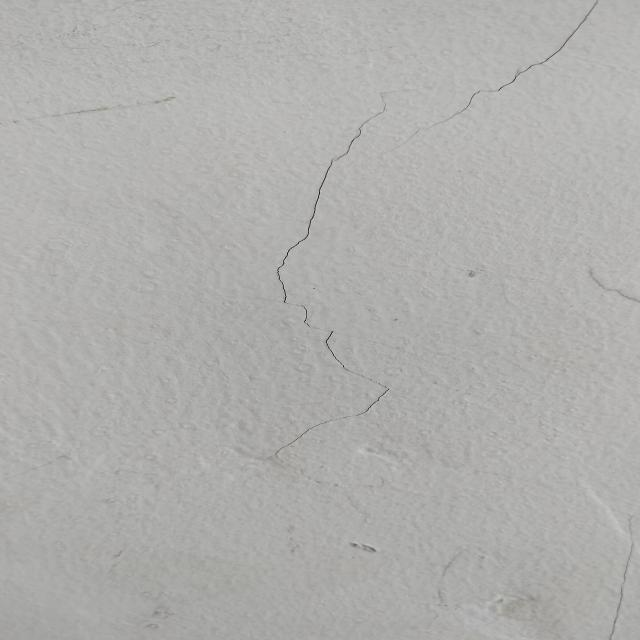Crack: (260, 4, 600, 483)
